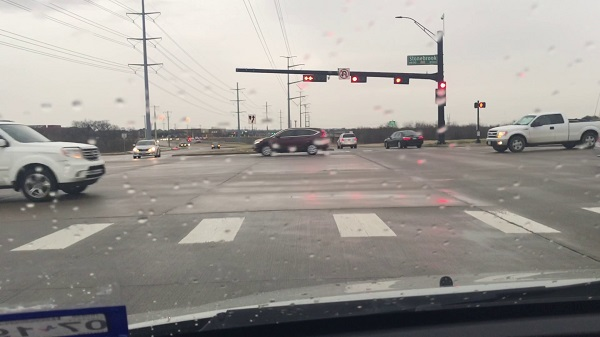car: (1, 120, 106, 200), (254, 128, 328, 158), (381, 130, 425, 150), (131, 139, 160, 157), (337, 132, 356, 147)
truck: (483, 112, 600, 153)
